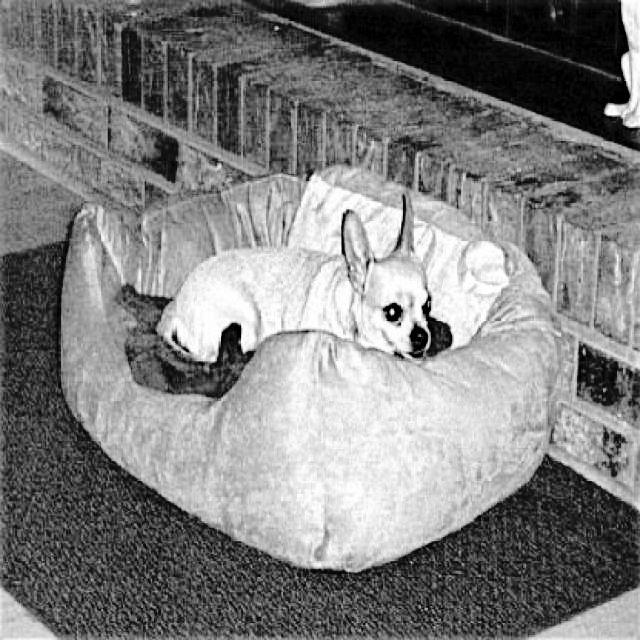Dog: (154, 186, 435, 377)
